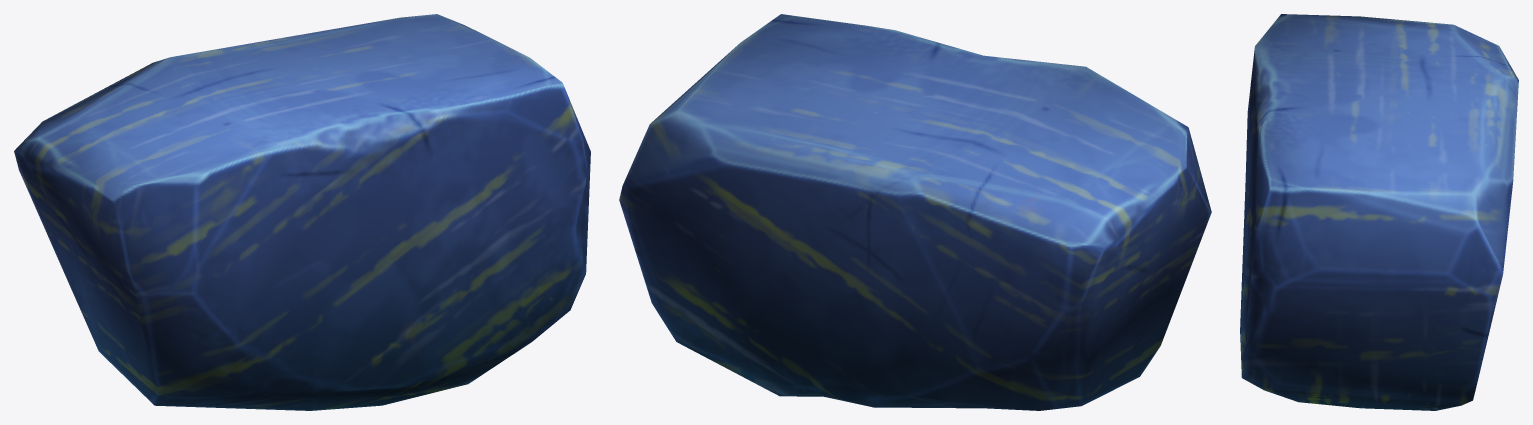
Rendered from SM_Gem_LapisLazuli_002.fbx.
3 views of the same model, side by side, from view 1: azimuth 30°, elevation 25°; view 2: azimuth 150°, elevation 25°; view 3: azimuth 270°, elevation 25° (orthographic). The views are drawn at different scales.
Parts seen in each view (by area): view 1: SM_Gem_LapisLazuli_002; view 2: SM_Gem_LapisLazuli_002; view 3: SM_Gem_LapisLazuli_002.
Part boxes in pixels (x1,y1,x2,y2): SM_Gem_LapisLazuli_002: (14, 14, 590, 410); SM_Gem_LapisLazuli_002: (619, 14, 1211, 410); SM_Gem_LapisLazuli_002: (1240, 14, 1518, 410).
Size of the model in its own units: 56.05 by 34.53 by 31.61.
